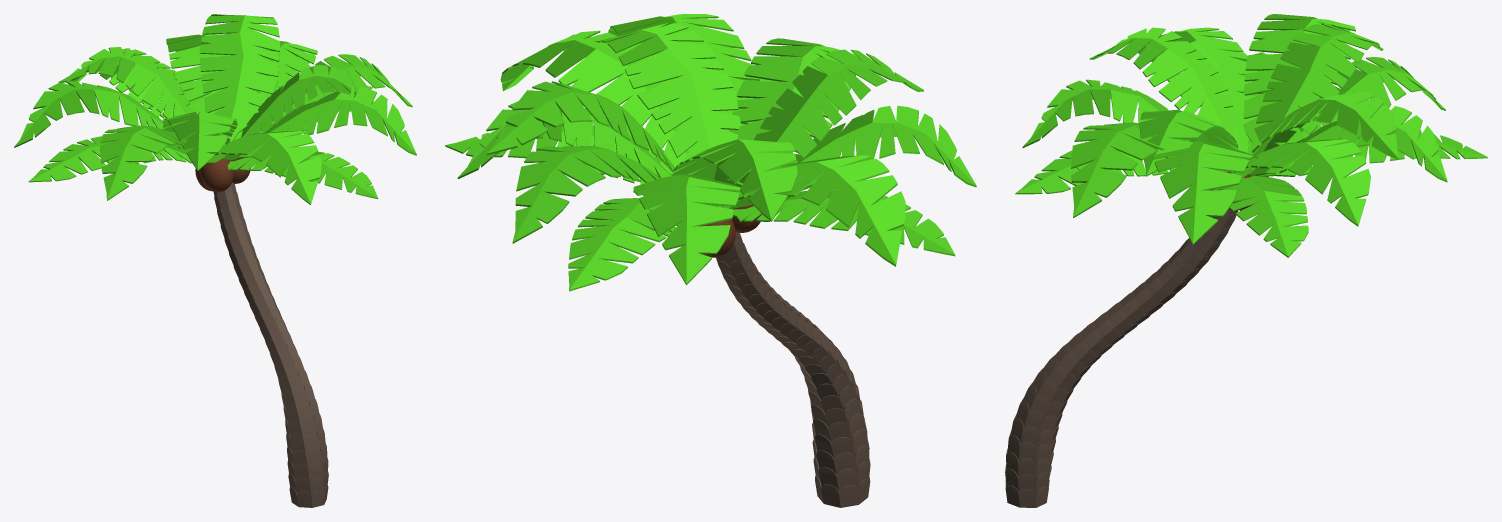
File: low_poly_palm_tree.glb
3 views of the same model, side by side, from view 1: azimuth 30°, elevation 25°; view 2: azimuth 150°, elevation 25°; view 3: azimuth 270°, elevation 25° (orthographic). The views are drawn at different scales.
Visible parts, largest first — view 1: leaves, tronc, noix de coco; view 2: leaves, tronc; view 3: leaves, tronc.
Part boxes in pixels (x1,y1,x2,y2): leaves: (14,14,416,204); tronc: (213,182,328,507); noix de coco: (200,158,233,191); leaves: (445,14,976,291); tronc: (716,232,870,507); leaves: (1015,14,1487,257); tronc: (1005,209,1238,507).
Bounding box in the file's own units: 15.7 × 15.63 × 15.64.
